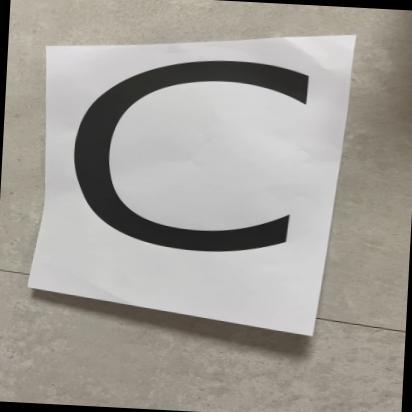seat: (24, 25, 333, 325)
